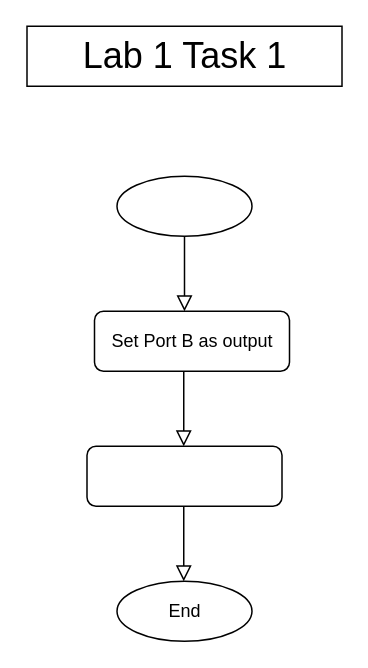
The diagram is 368 pixels wide and 668 high, and some of its shapes have lost their labels. The shapes that lost their labels are listed below. From the top down, each one's centre as x and y in pixels, then its label:
the point at 184,205: Start
the point at 184,475: Output 0xFB to Port B
